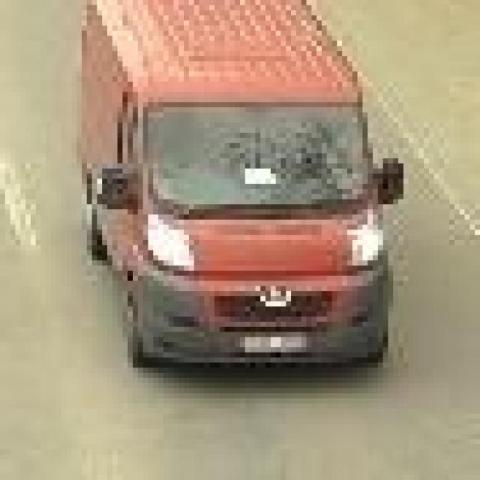van: (84, 0, 386, 368)
